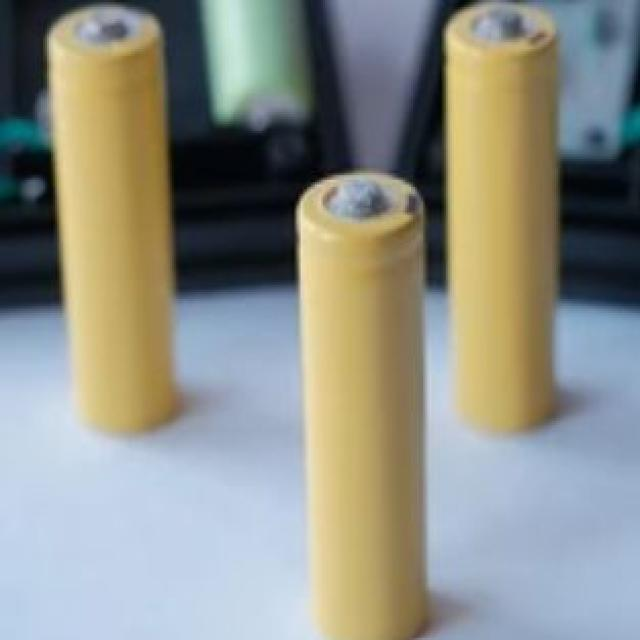electronic: (251, 121, 476, 640)
